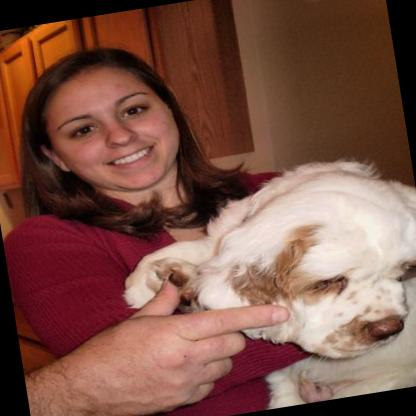clumber: (108, 142, 416, 416)
